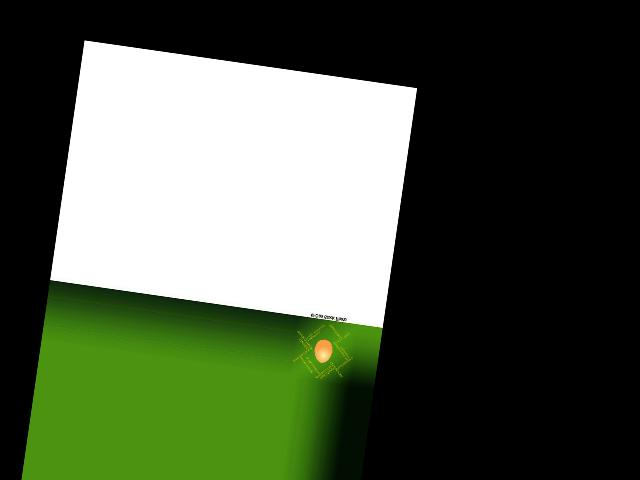egg: (313, 338, 334, 364)
